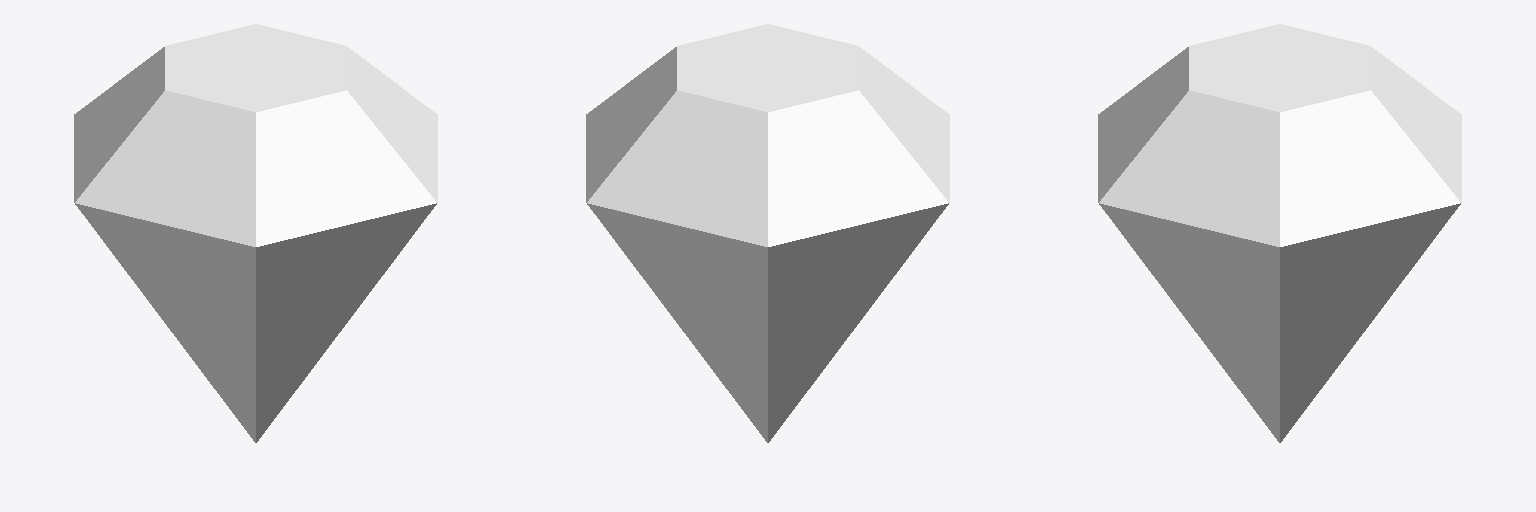
Rendered from Gem.obj.
3 renders of one model, left to right at view 1: azimuth 30°, elevation 25°; view 2: azimuth 150°, elevation 25°; view 3: azimuth 270°, elevation 25°, orthographic.
Visible parts, largest first — view 1: Gem; view 2: Gem; view 3: Gem.
Part boxes in pixels (x1,y1,x2,y2): Gem: (74,24,437,442); Gem: (586,24,949,442); Gem: (1098,24,1461,442).
Size of the model in its own units: 2 by 1.98 by 1.73.